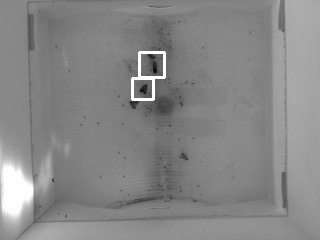insect: (127, 98, 140, 110), (138, 82, 149, 95), (145, 50, 157, 60), (151, 59, 159, 74), (178, 151, 190, 160)
